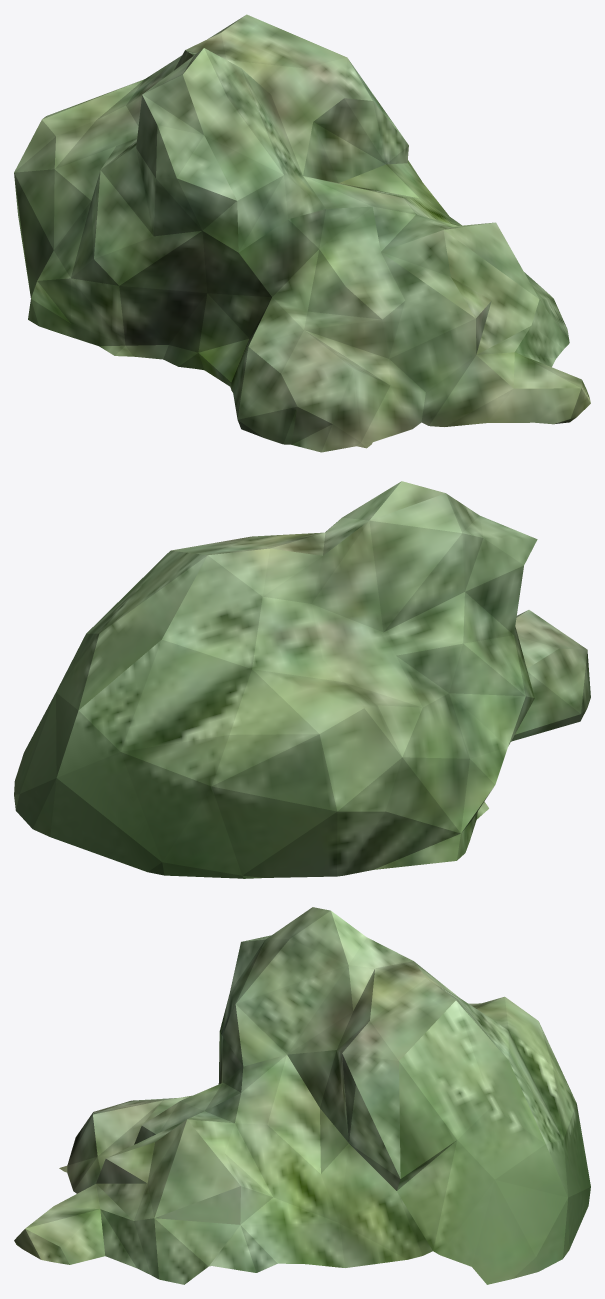
3 views of the same model, one above another, from view 1: azimuth 30°, elevation 25°; view 2: azimuth 150°, elevation 25°; view 3: azimuth 270°, elevation 25° (orthographic). The views are drawn at different scales.
Size of the model in its own units: 7.26 by 4.92 by 10.12.
Materials: 1 (1 with a texture image).
